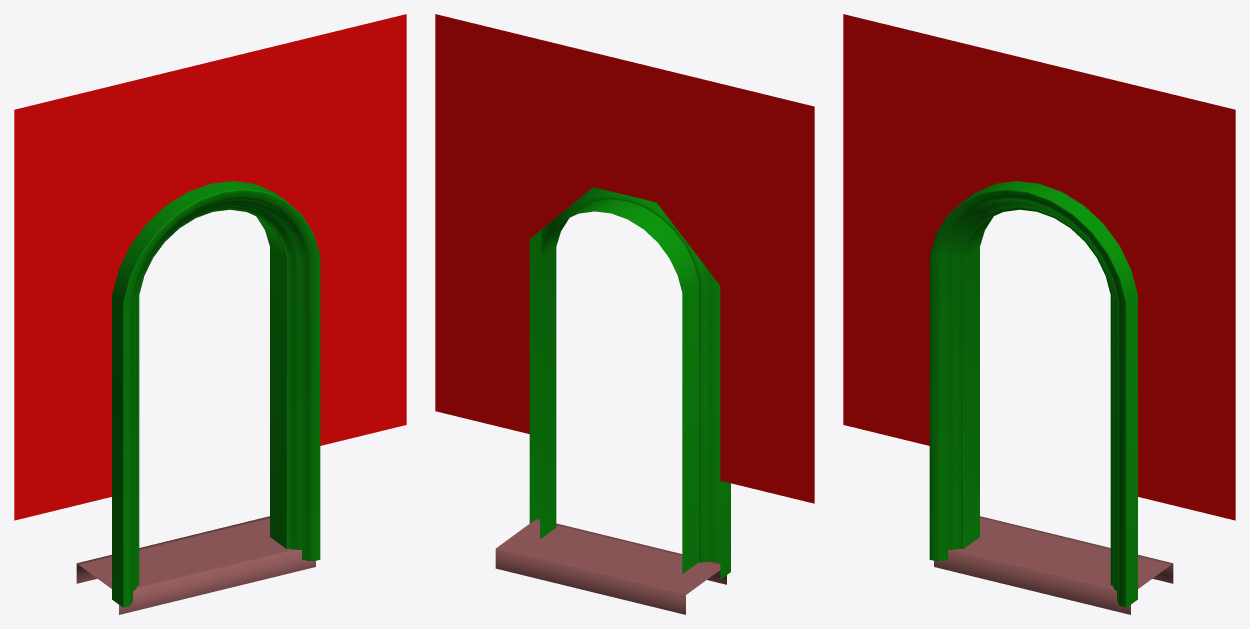
File: SM_BaseWallArchSmall4m.fbx
The picture shows the model from 3 angles, left to right: view 1: azimuth 30°, elevation 25°; view 2: azimuth 150°, elevation 25°; view 3: azimuth 330°, elevation 25°; orthographic projection. The views are drawn at different scales.
Parts seen in each view (by area): view 1: SM_BaseWallArchSmall4m; view 2: SM_BaseWallArchSmall4m; view 3: SM_BaseWallArchSmall4m.
Boxes of the visible parts, x1,y1,x2,y2 form: SM_BaseWallArchSmall4m: [14, 14, 406, 614]; SM_BaseWallArchSmall4m: [435, 14, 814, 614]; SM_BaseWallArchSmall4m: [843, 14, 1235, 614].
Size of the model in its own units: 400 by 510 by 82.52.
